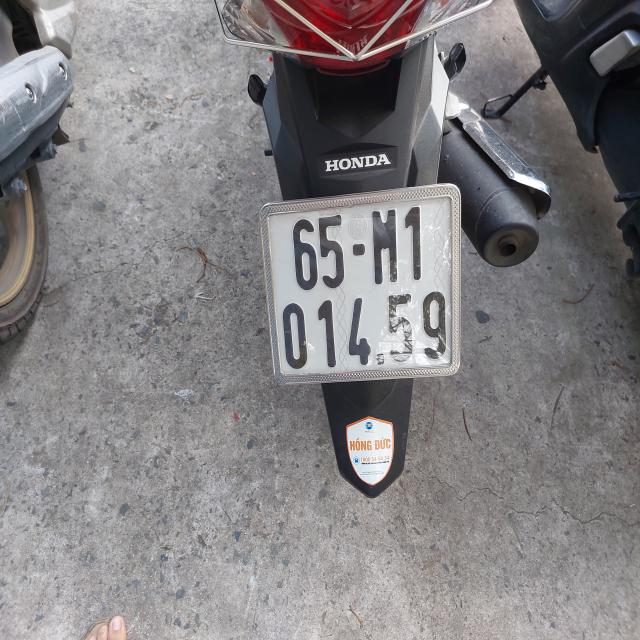0: (281, 299, 311, 374)
1: (316, 296, 342, 369), (403, 203, 427, 279)
4: (346, 293, 372, 367)
5: (319, 213, 346, 287), (388, 291, 414, 362)
6: (291, 217, 319, 292)
9: (422, 288, 448, 360)
M: (370, 206, 400, 286)
